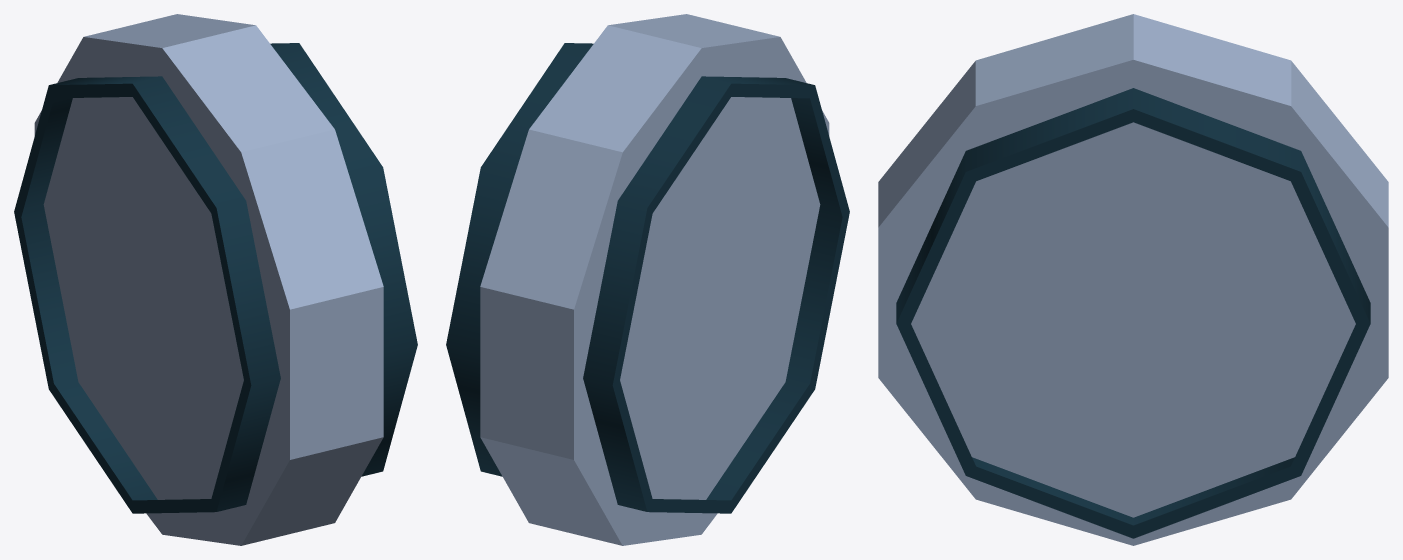
File: PipeSmall_Connector_05.fbx
3 views of the same model, side by side, from view 1: azimuth 30°, elevation 25°; view 2: azimuth 150°, elevation 25°; view 3: azimuth 270°, elevation 25° (orthographic).
Visible parts, largest first — view 1: PipeSmall_Connector_05.001; view 2: PipeSmall_Connector_05.001; view 3: PipeSmall_Connector_05.001.
Boxes of the visible parts, <box> form: PipeSmall_Connector_05.001: <box>14,14,417,545</box>; PipeSmall_Connector_05.001: <box>446,14,849,545</box>; PipeSmall_Connector_05.001: <box>878,14,1388,545</box>.
Size of the model in its own units: 0.0432 by 0.1206 by 0.1147.
